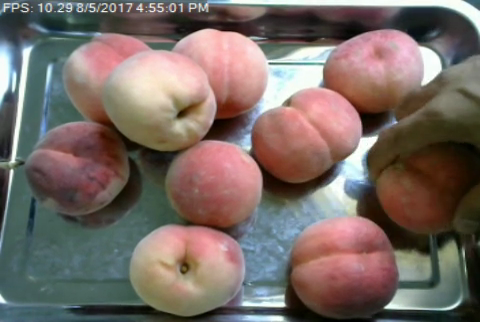Peach: (100, 47, 214, 152), (289, 215, 398, 319), (252, 84, 364, 183), (129, 223, 244, 318), (164, 26, 275, 120), (25, 119, 129, 213), (322, 26, 429, 111), (374, 141, 471, 233), (161, 141, 264, 226), (64, 32, 148, 130)
